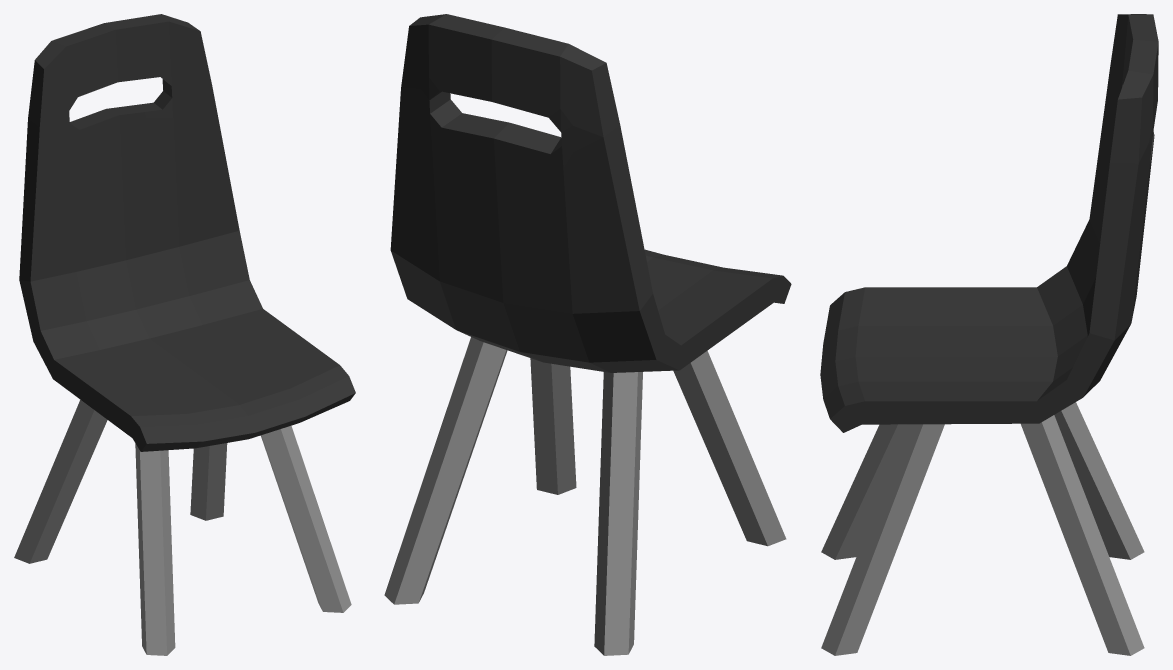
Rendered from Int_GymChair01.fbx.
3 renders of one model, left to right at view 1: azimuth 30°, elevation 25°; view 2: azimuth 150°, elevation 25°; view 3: azimuth 270°, elevation 25°, orthographic. The views are drawn at different scales.
Parts seen in each view (by area): view 1: Int_GymChair01; view 2: Int_GymChair01; view 3: Int_GymChair01.
Part boxes in pixels (x1,y1,x2,y2): Int_GymChair01: (14, 14, 355, 655); Int_GymChair01: (384, 14, 791, 655); Int_GymChair01: (820, 14, 1158, 655).
Size of what is drawn, in the model's own units: 55.71 by 69.94 by 128.
